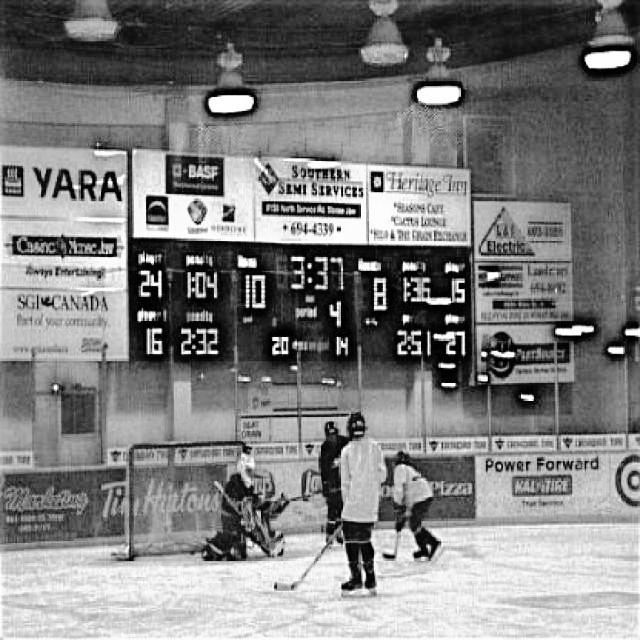Person: (337, 412, 385, 606), (390, 447, 448, 564), (318, 416, 352, 553)
